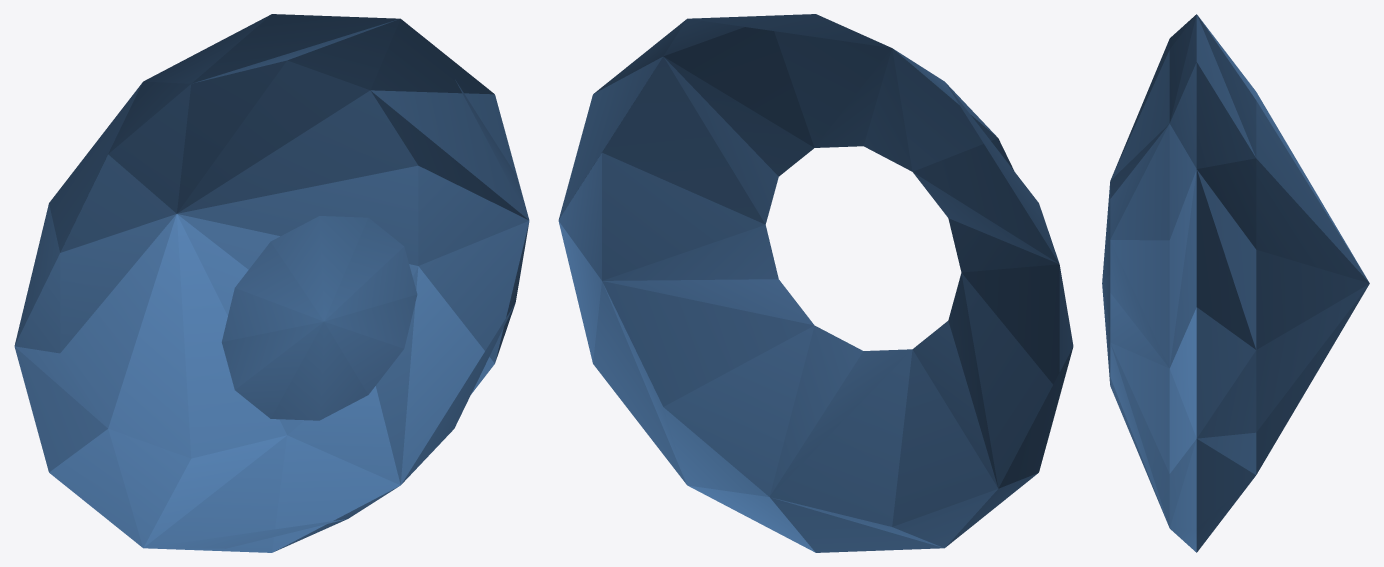
File: sapphire-demo.glb
3 views of the same model, side by side, from view 1: azimuth 30°, elevation 25°; view 2: azimuth 150°, elevation 25°; view 3: azimuth 270°, elevation 25° (orthographic). The views are drawn at different scales.
Parts seen in each view (by area): view 1: world; view 2: world; view 3: world.
Part boxes in pixels (x1,y1,x2,y2): world: (14,14,529,552); world: (558,14,1073,552); world: (1102,14,1369,552).
Size of the model in its own units: 2 by 2 by 0.99.
